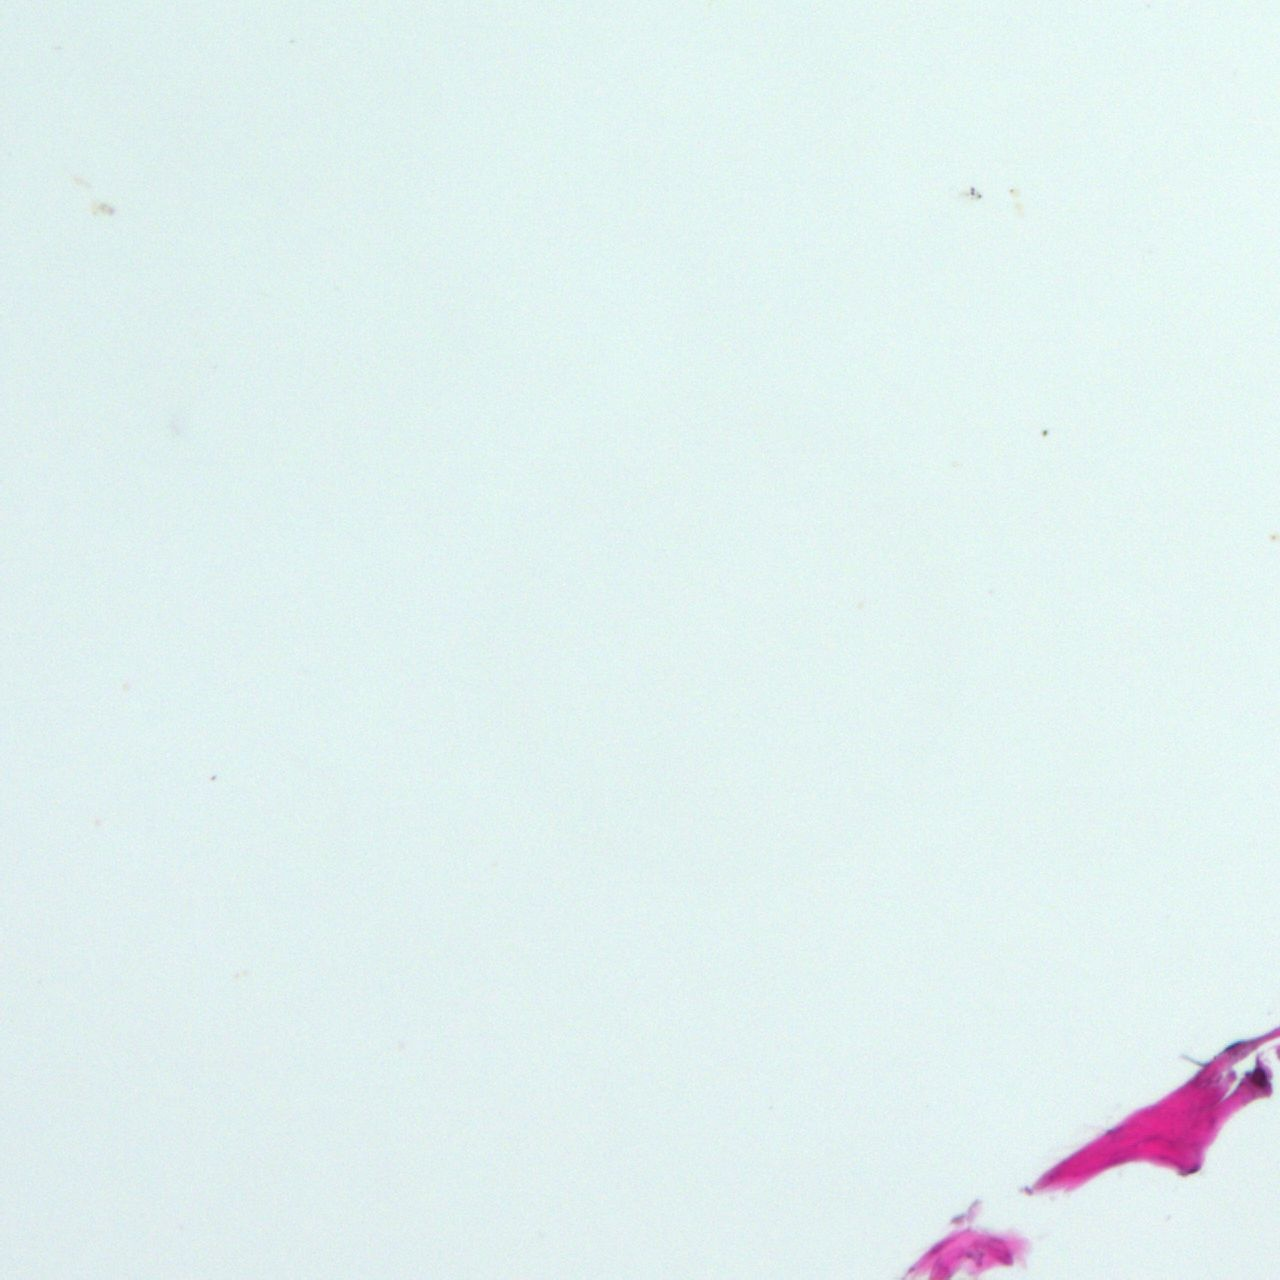dust: (89, 195, 116, 219), (971, 186, 981, 198), (1269, 535, 1276, 542), (1042, 429, 1047, 436)
nucleus-HE: (1250, 1065, 1269, 1085)
